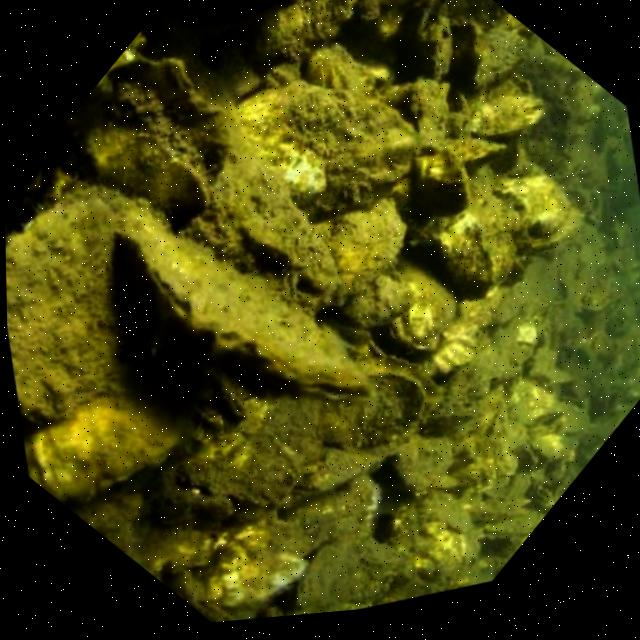Oyster-Closed: (132, 284, 440, 618), (97, 167, 388, 461), (12, 348, 196, 545), (182, 132, 367, 322), (108, 18, 239, 151), (455, 470, 522, 542)
Oyster-Indeterminate: (4, 155, 211, 460), (216, 45, 404, 243), (70, 438, 233, 608), (66, 92, 221, 249), (166, 494, 317, 626), (402, 180, 531, 315), (309, 161, 436, 296), (300, 228, 427, 360), (365, 474, 485, 602), (280, 451, 398, 579), (280, 509, 408, 616), (454, 50, 567, 169), (428, 402, 538, 519), (482, 151, 587, 263), (372, 247, 478, 357), (441, 0, 547, 106), (452, 302, 553, 410), (410, 336, 510, 445), (385, 0, 485, 102), (371, 404, 467, 506), (404, 297, 494, 394), (495, 369, 585, 463), (460, 480, 545, 572), (294, 28, 376, 116), (398, 129, 477, 213), (511, 336, 588, 416), (442, 110, 516, 189), (522, 413, 586, 480), (492, 457, 538, 505)
